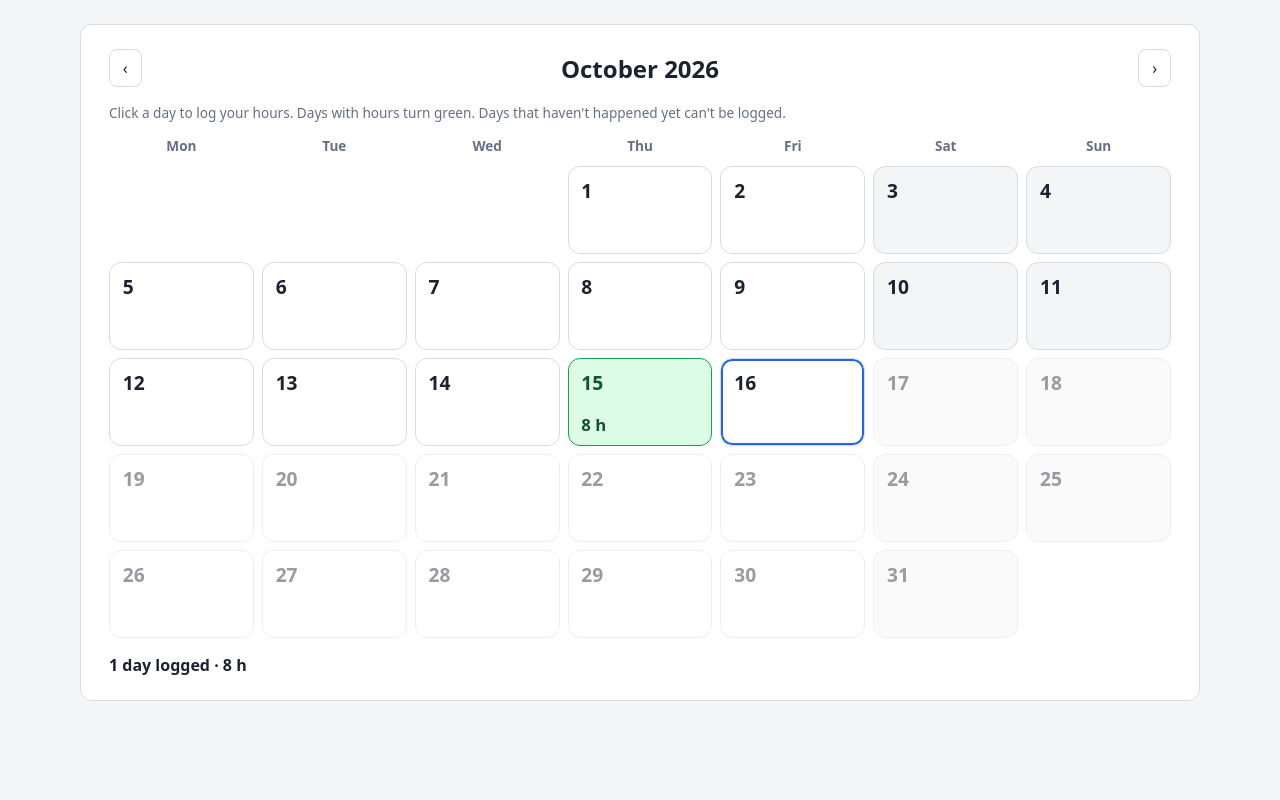
Test: logging hours › changes the hours of a logged day, which stays green
Click the button named "Thu, Oct 15," at (640, 402), box x1=568 y1=358 x2=712 y2=446
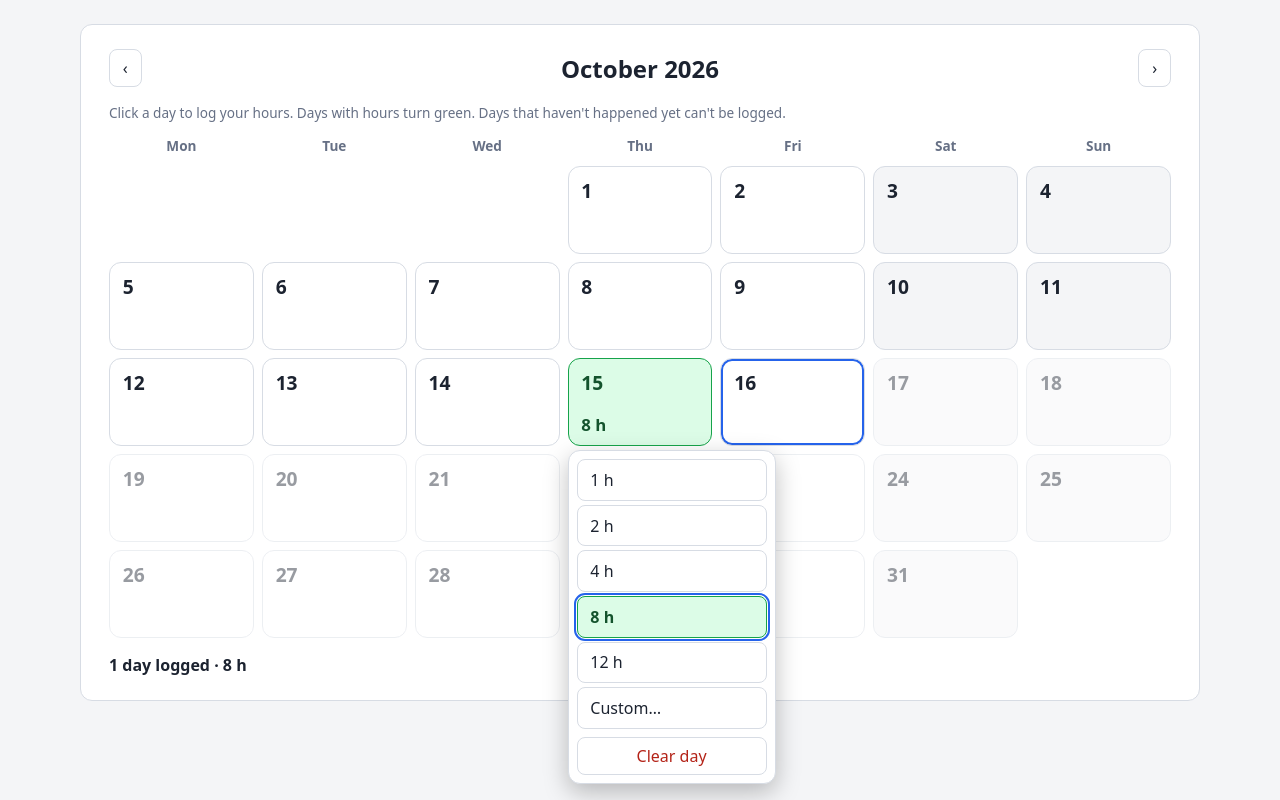
Click the button "4 h" at (672, 571), box x1=577 y1=550 x2=767 y2=592
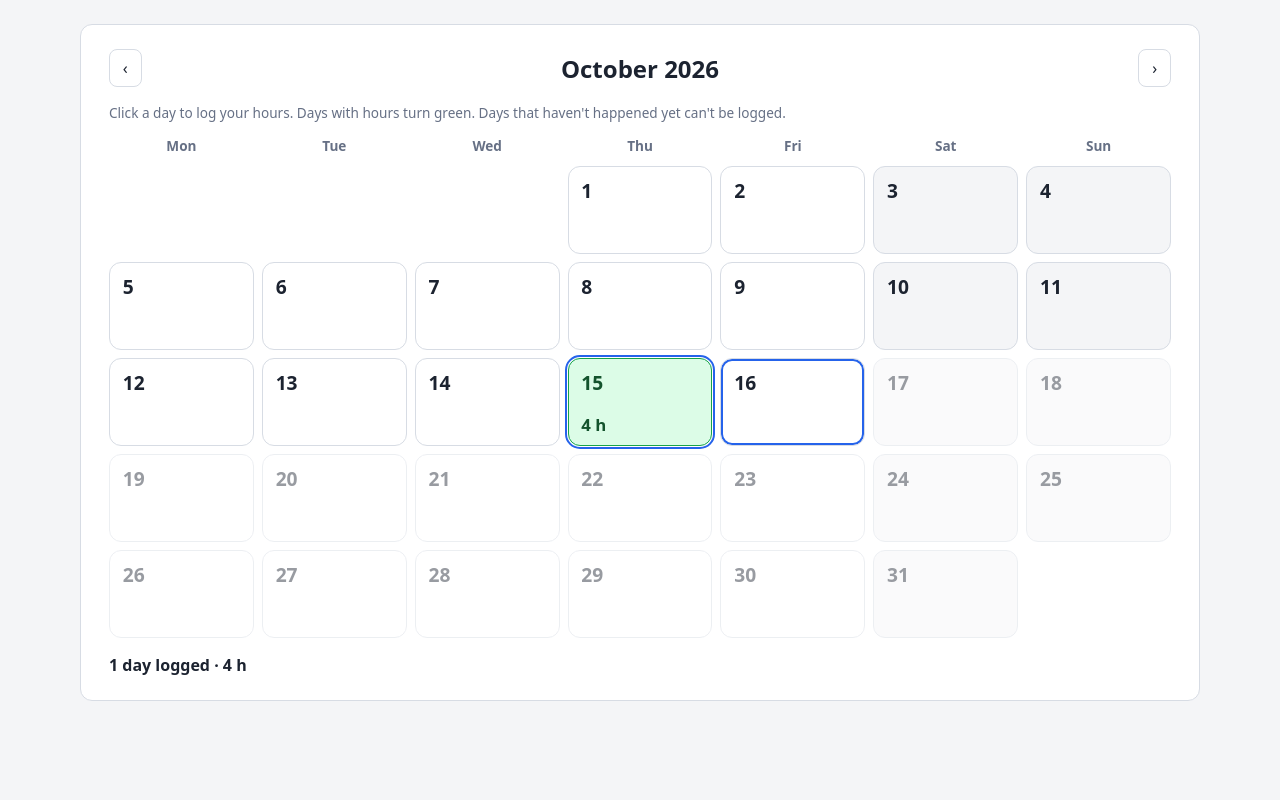
Result: the text "1 day logged · 4 h" is shown at x1=109 y1=654 x2=247 y2=676
